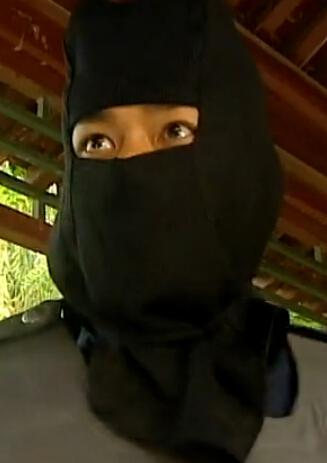OK: (63, 103, 243, 283)
